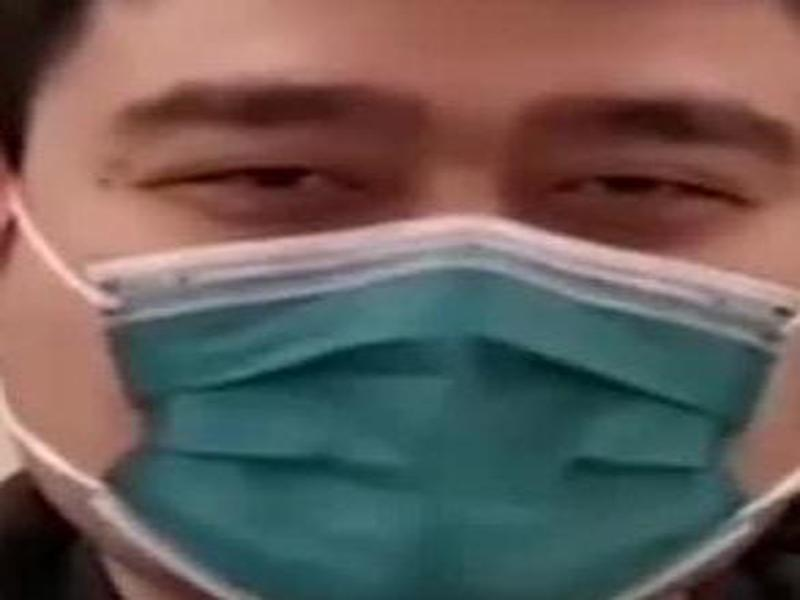with_mask: (3, 2, 795, 593)
